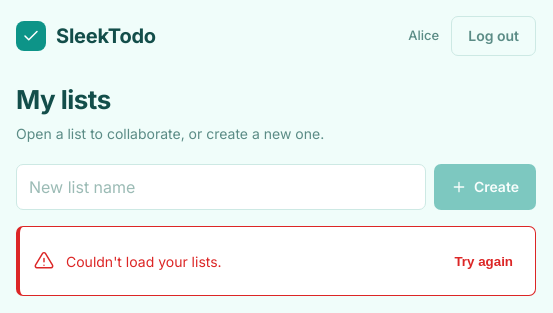
Test case: ListsScreen › shows a load error and retries successfully without flashing the empty state
Check: the message shows "Couldn't load your lists.", box [66,252,222,270]
Click the button "Try again" at (484, 261), box [446,239,521,283]
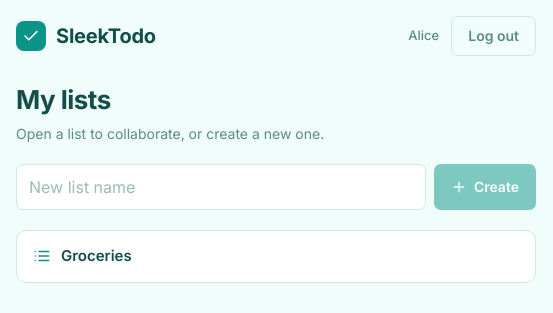
Check: the button "Groceries" is shown, box [16,230,536,282]
Check: the message "Couldn't load your lists. Try again" is gone
